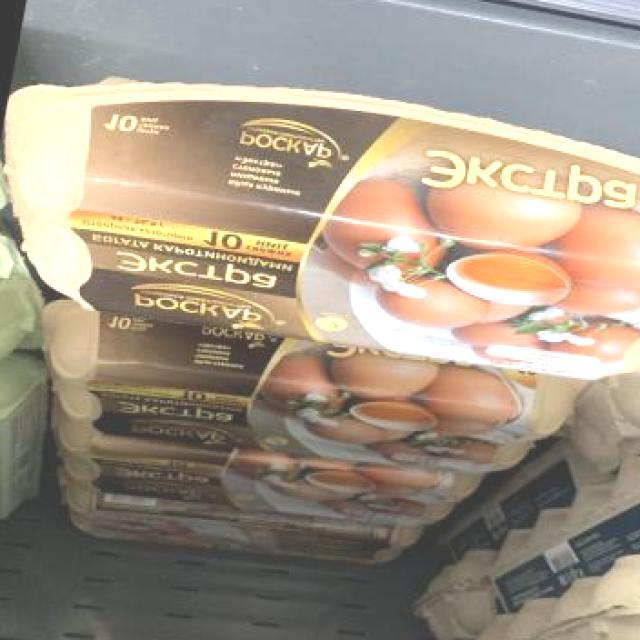egg: (0, 51, 640, 397), (24, 306, 582, 486), (47, 426, 482, 532)
